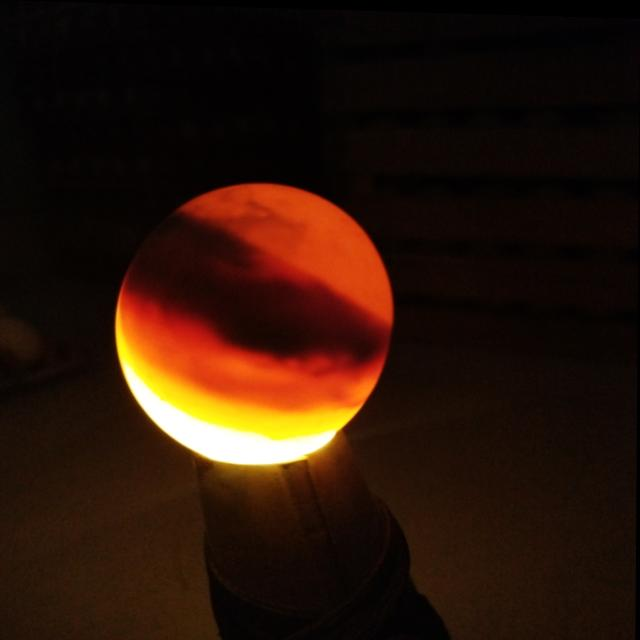Area Infectada: (125, 200, 384, 374)
